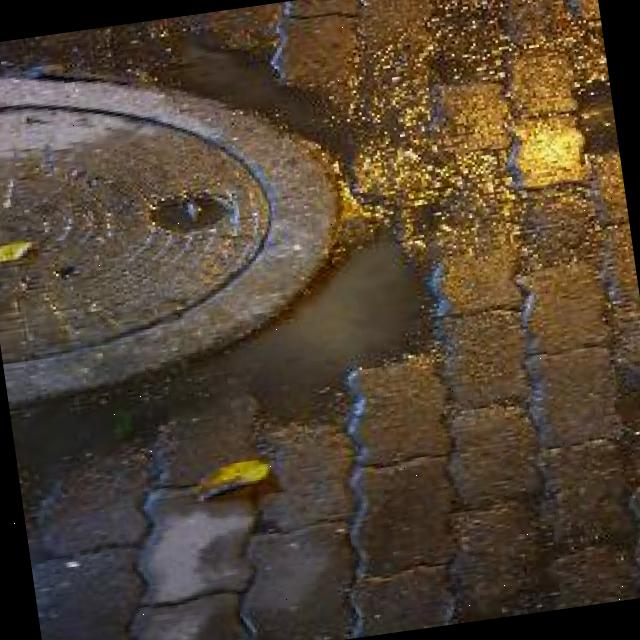stagnation: (83, 200, 444, 459)
